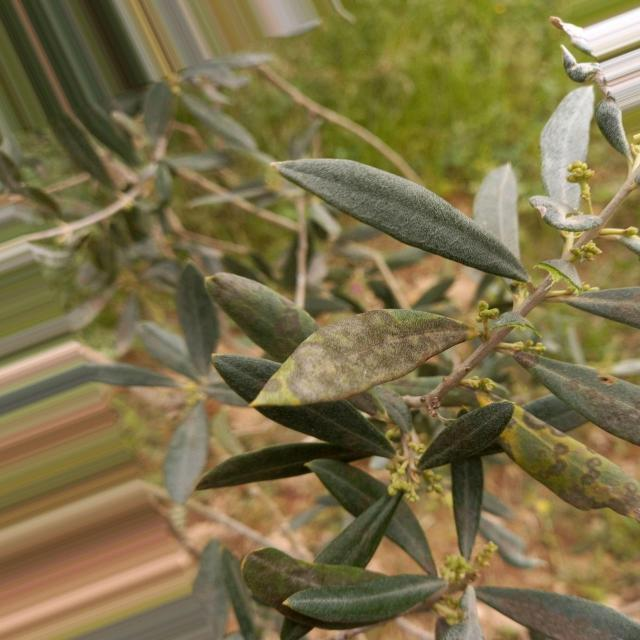OlivePeacockSpot: (251, 309, 478, 406), (500, 402, 640, 519), (512, 352, 640, 445), (206, 272, 318, 361)
